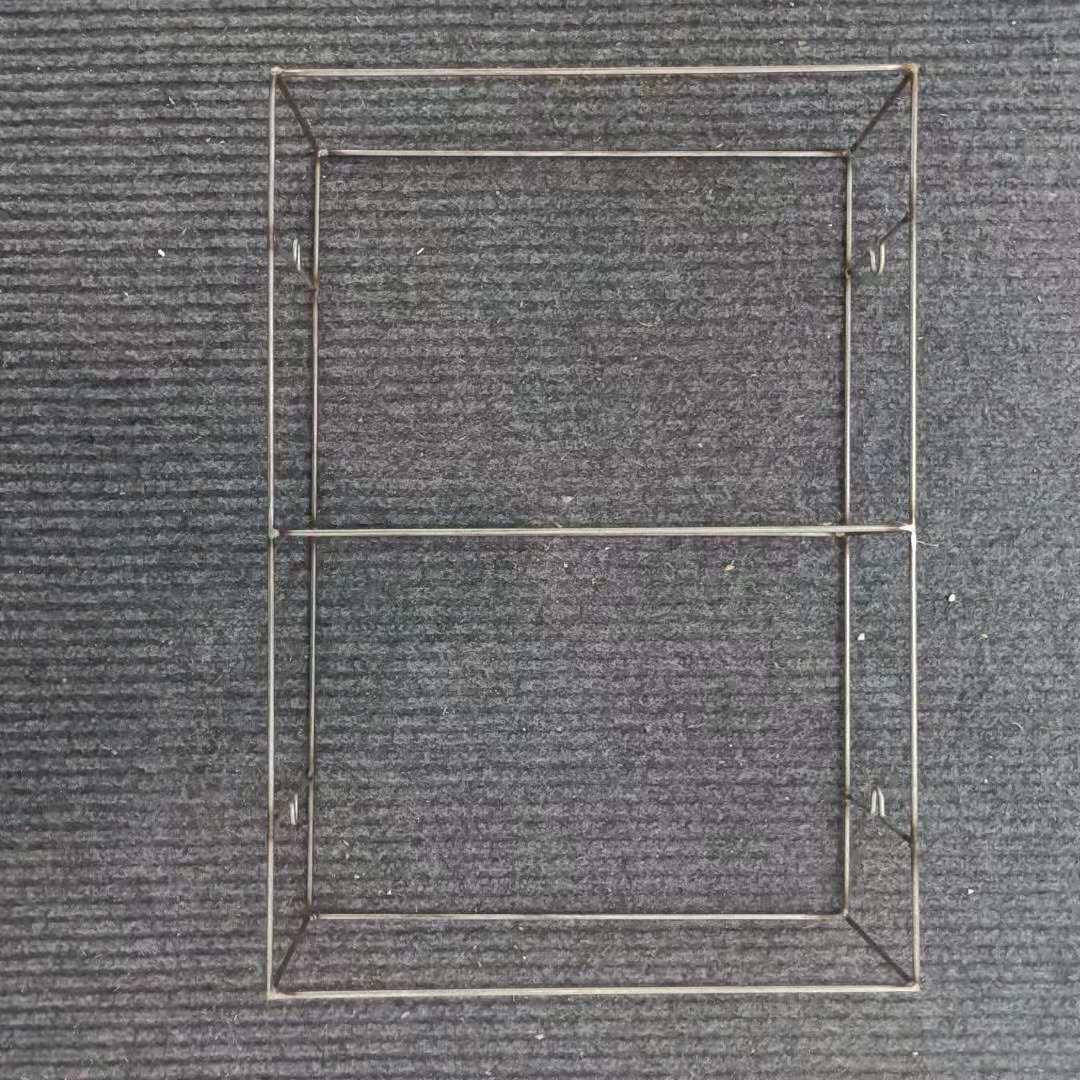curvedhole: (858, 775, 892, 841), (860, 237, 901, 282)
